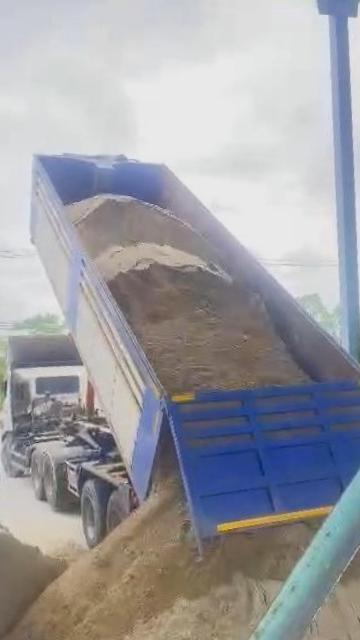sand: (0, 481, 313, 640), (68, 196, 307, 391), (251, 531, 360, 640), (0, 518, 66, 640), (51, 542, 84, 564)
